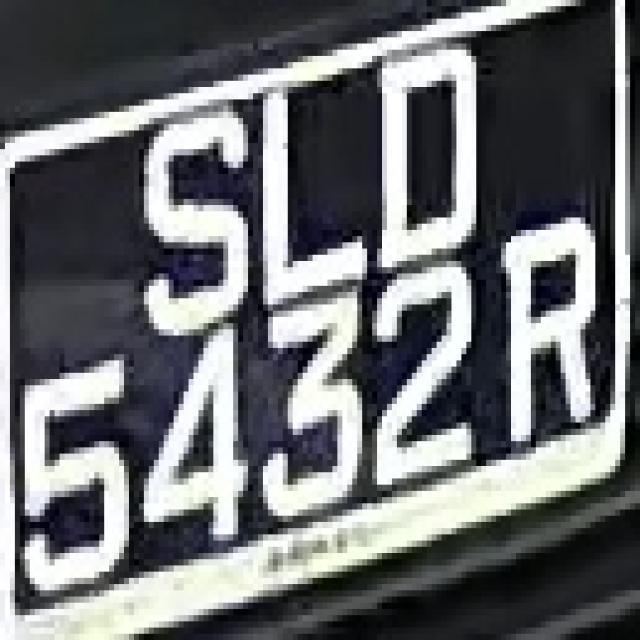2: (367, 261, 486, 497)
3: (243, 280, 367, 528)
4: (144, 317, 268, 559)
5: (20, 329, 134, 609)
D: (372, 25, 481, 261)
L: (253, 62, 367, 311)
R: (491, 212, 615, 448)
S: (134, 93, 253, 336)
